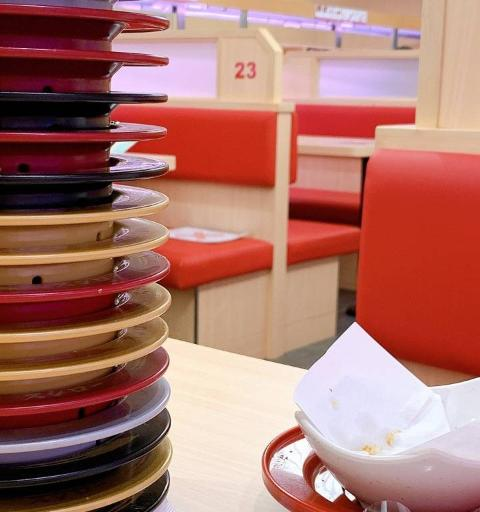Janback: (0, 87, 121, 125), (0, 171, 135, 198), (0, 458, 115, 481)
Jangold: (0, 235, 139, 273), (0, 209, 156, 236), (0, 325, 140, 355), (0, 353, 125, 384), (0, 494, 122, 512)
Janred: (0, 1, 137, 45), (0, 43, 128, 85), (0, 283, 111, 322), (0, 131, 122, 165), (0, 395, 105, 423)
Janwhite: (0, 428, 135, 453)
